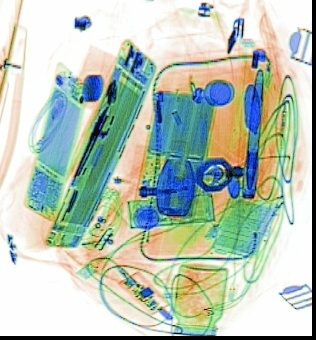powerbank: (145, 87, 218, 166)
